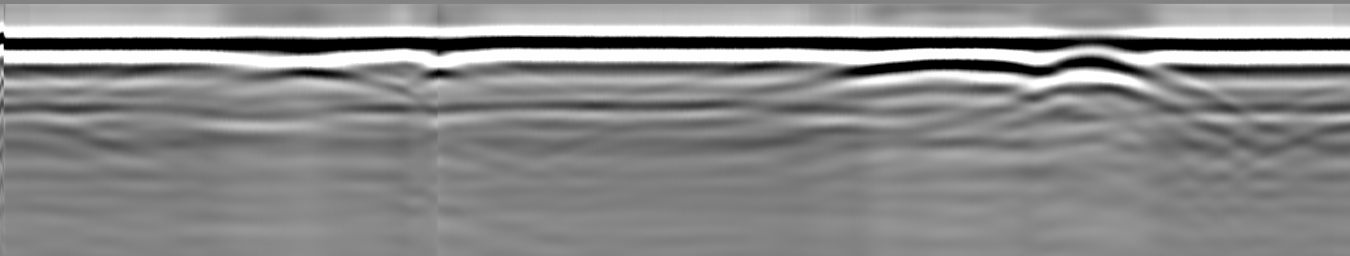pipe: (1027, 35, 1157, 81)
